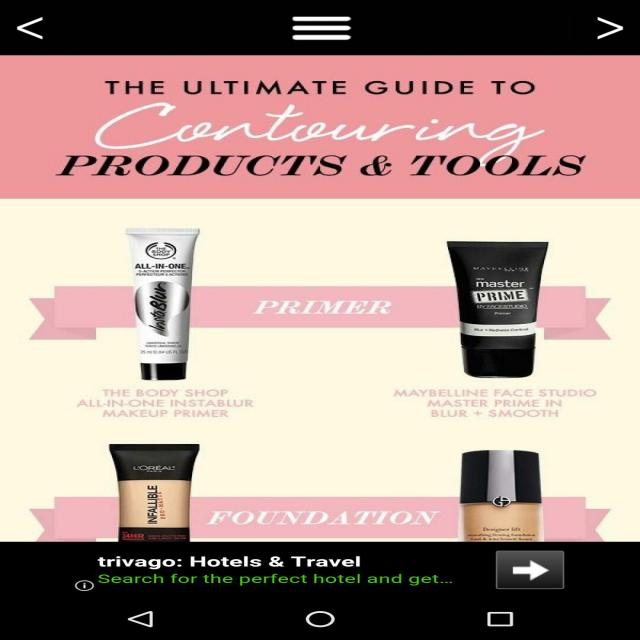button: (493, 553, 565, 590)
image: (103, 215, 244, 406), (431, 212, 565, 401), (84, 440, 206, 548), (459, 435, 548, 544)
text: (10, 61, 606, 198), (250, 270, 420, 338), (203, 499, 442, 539)
